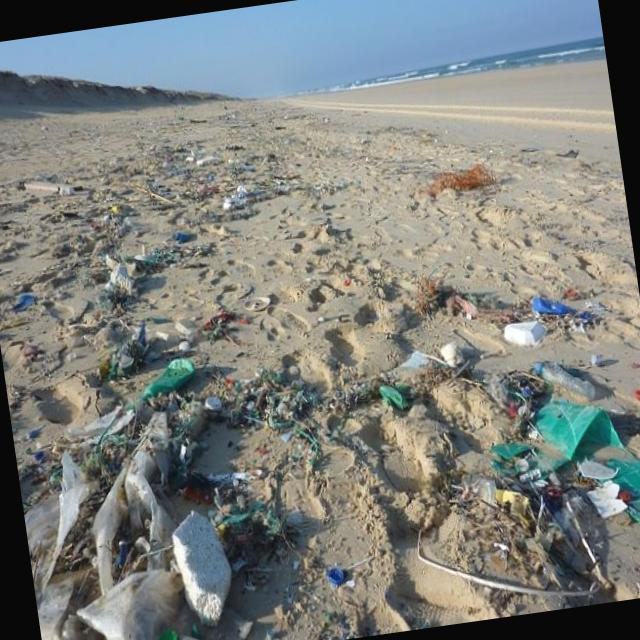garbage: (329, 262, 640, 635), (1, 307, 338, 640)
